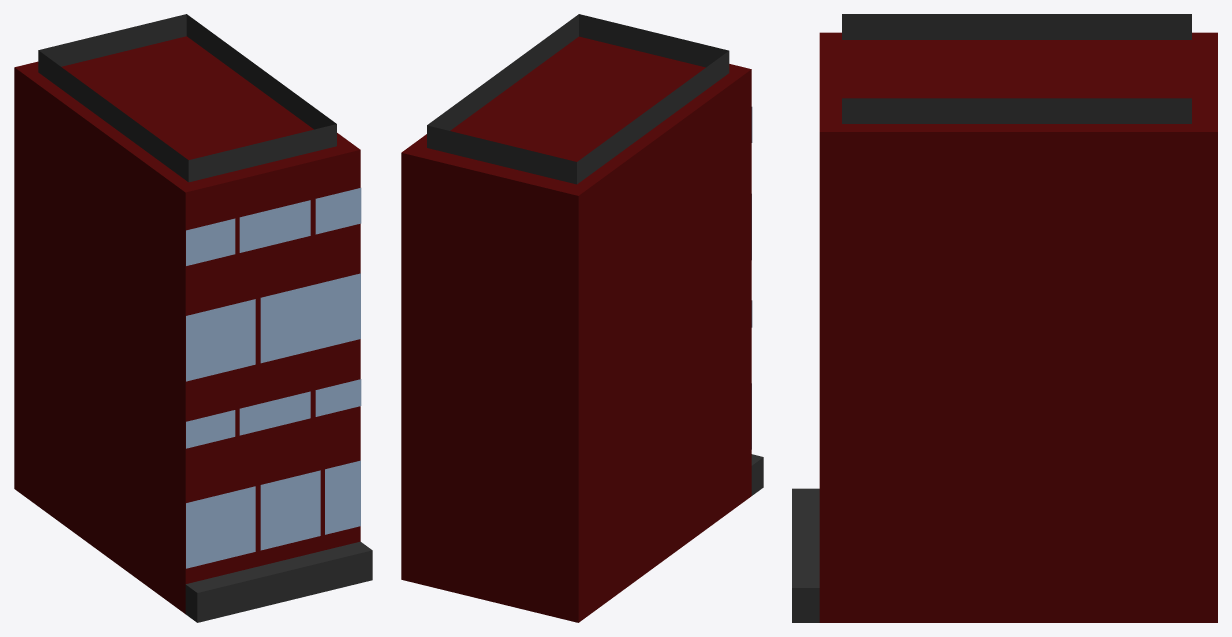
The model's file is modernGrachthuis1LowLOD.fbx.
The picture shows the model from 3 angles, left to right: view 1: azimuth 30°, elevation 25°; view 2: azimuth 150°, elevation 25°; view 3: azimuth 270°, elevation 25°; orthographic projection. The views are drawn at different scales.
Parts seen in each view (by area): view 1: Cube.001; view 2: Cube.001; view 3: Cube.001.
Part boxes in pixels (<box>): Cube.001: <box>14,14,372,622</box>; Cube.001: <box>401,14,763,622</box>; Cube.001: <box>792,14,1217,622</box>.
Bounding box in the file's own units: 103 × 249 × 186.
